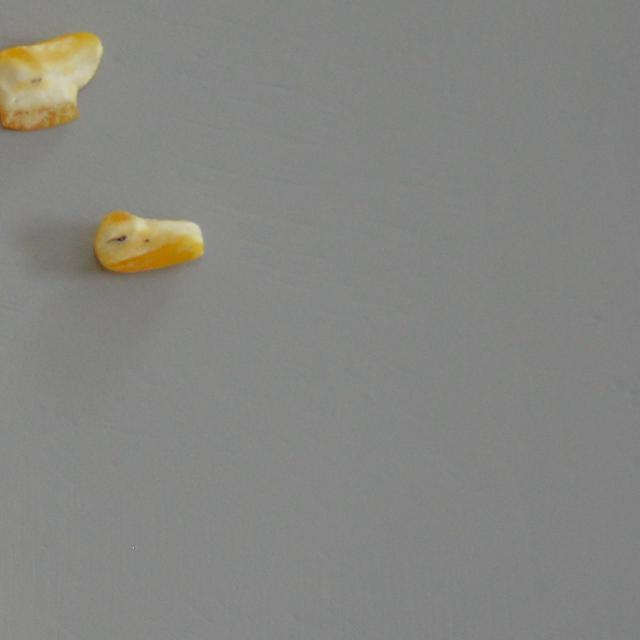dañado: (93, 210, 204, 274)
punto_negro: (0, 30, 103, 130)
